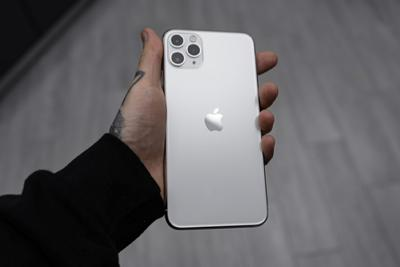cell-phone: (158, 22, 271, 233)
